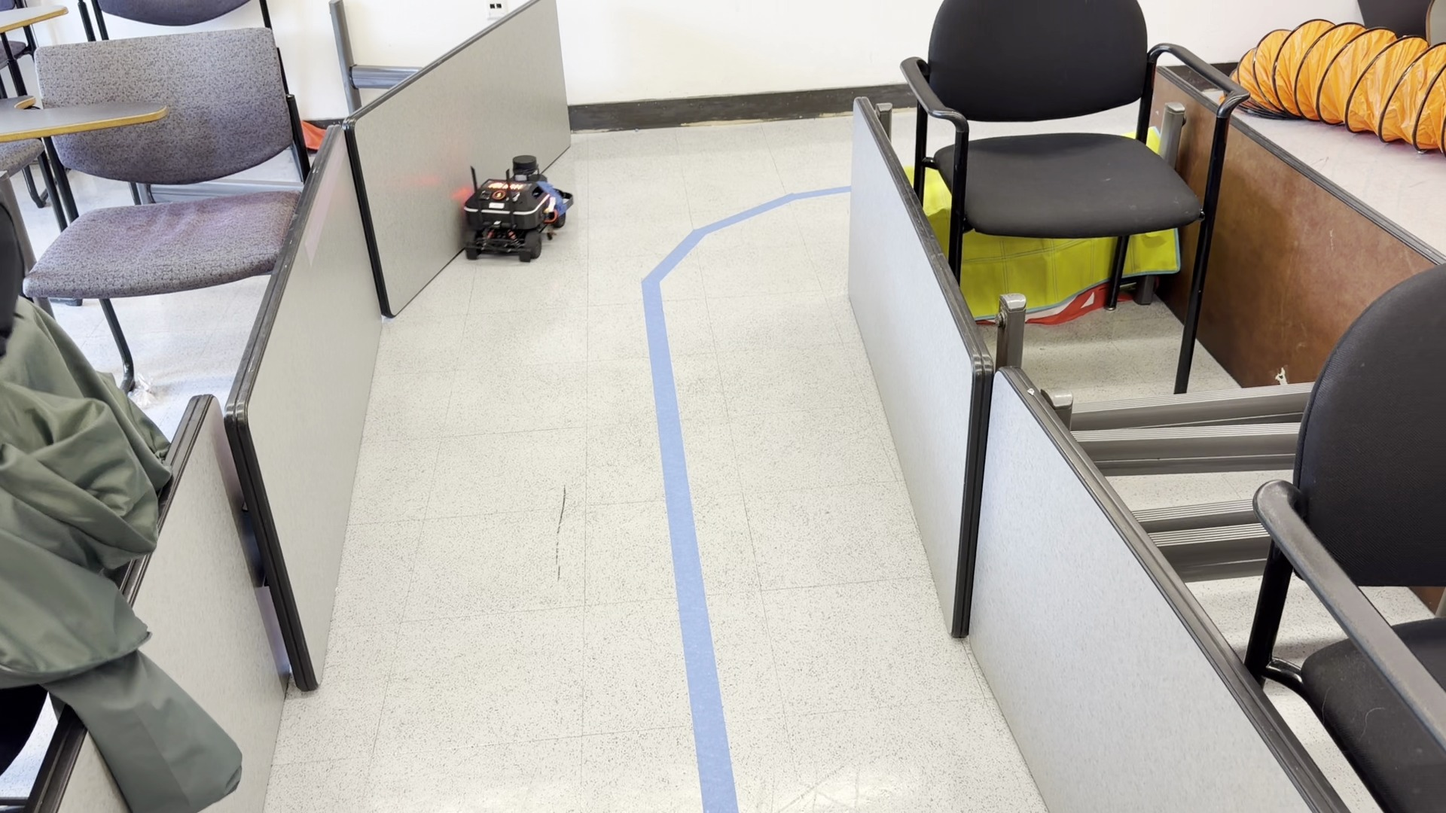racecar: (458, 156, 570, 261)
